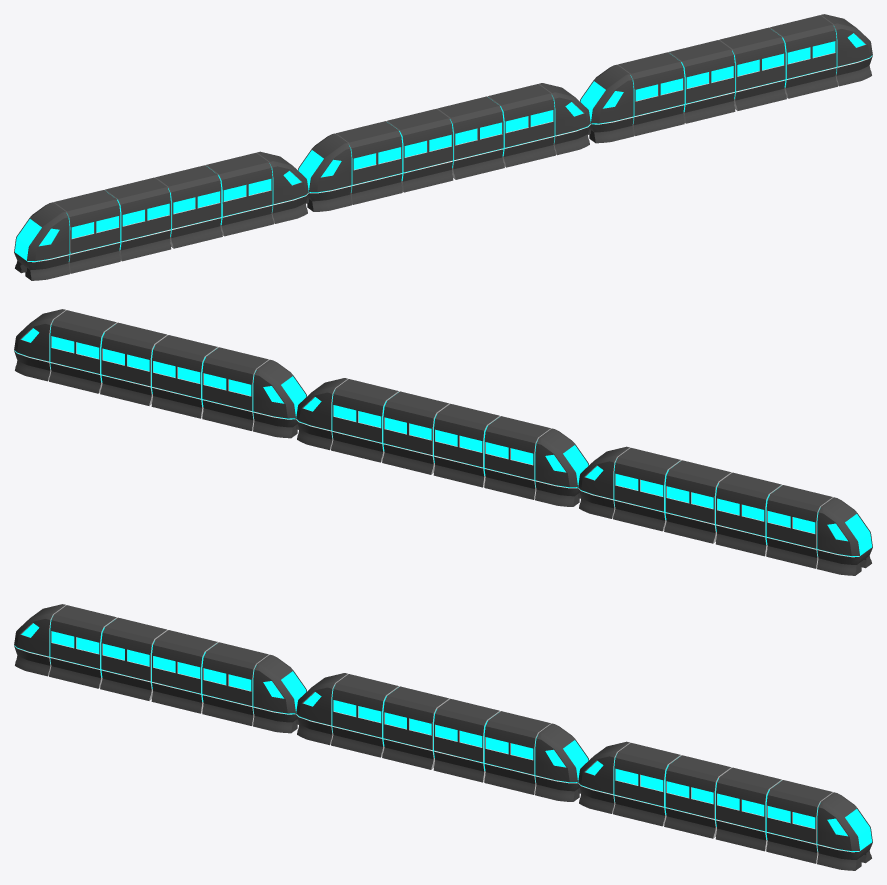
The model's file is SM_Train.fbx.
The picture shows the model from 3 angles, top to bottom: view 1: azimuth 30°, elevation 25°; view 2: azimuth 150°, elevation 25°; view 3: azimuth 330°, elevation 25°; orthographic projection.
Parts seen in each view (by area): view 1: SM_Train; view 2: SM_Train; view 3: SM_Train.
Part boxes in pixels (<box>): SM_Train: <box>14,14,872,280</box>; SM_Train: <box>14,309,872,575</box>; SM_Train: <box>14,604,872,870</box>.
Bounding box in the file's own units: 2400 × 160 × 109.
